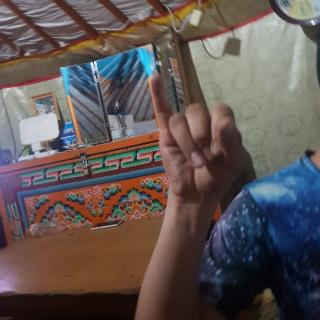MEEM: (144, 67, 246, 197)
